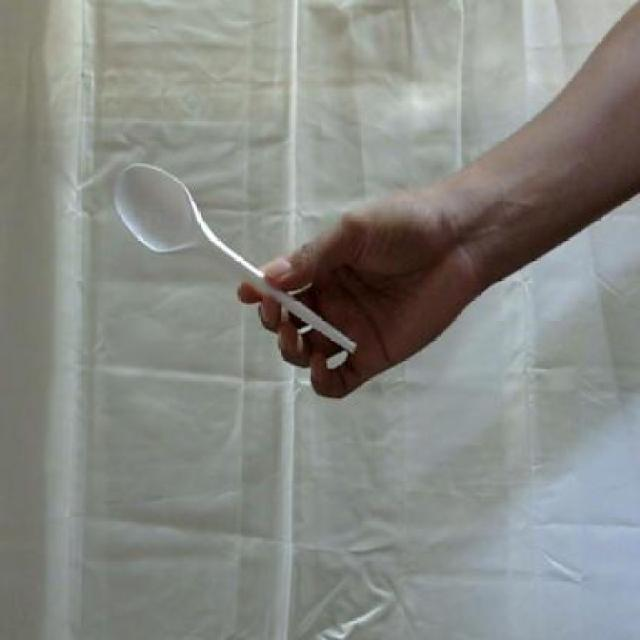Plastic: (115, 162, 358, 355)
